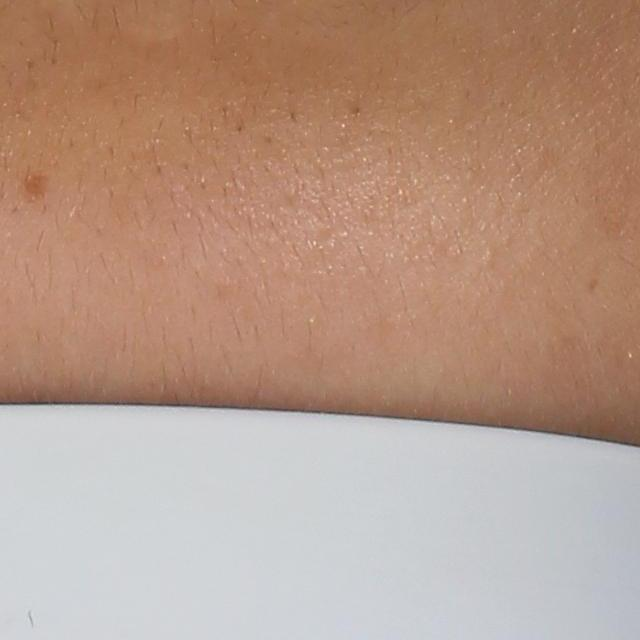nevus: (23, 177, 47, 208)
